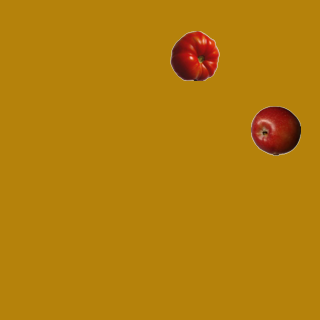Apple Braeburn: (250, 105, 300, 155)
Tomato 3: (169, 30, 219, 80)
